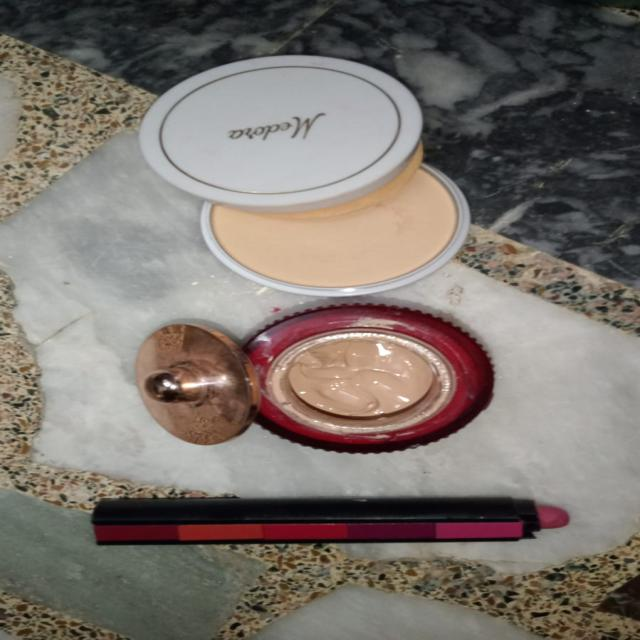highlighter: (113, 295, 527, 466)
lip stick: (62, 478, 580, 563)
powder: (180, 123, 513, 298)
